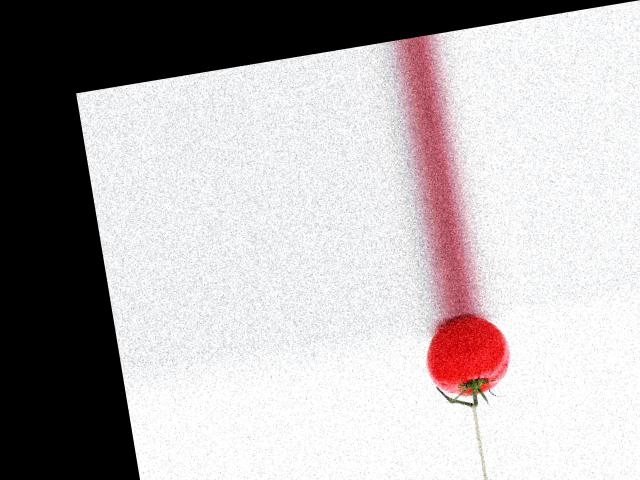tomato: (421, 309, 517, 401)
